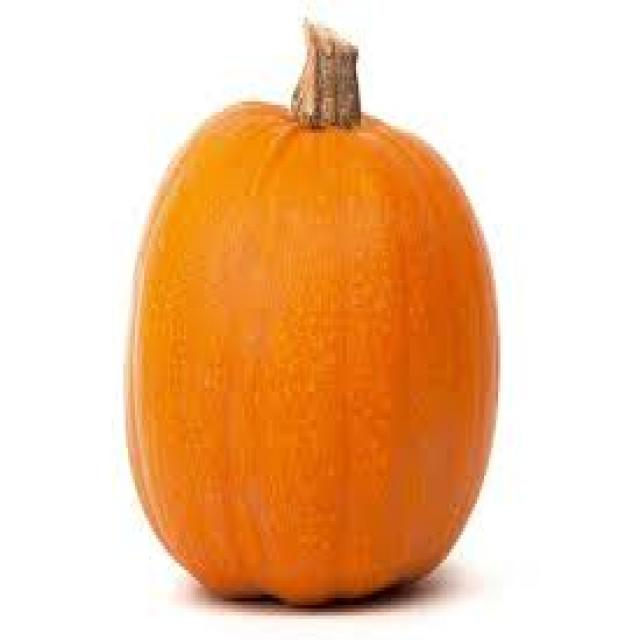organic waste: (121, 11, 498, 605)
